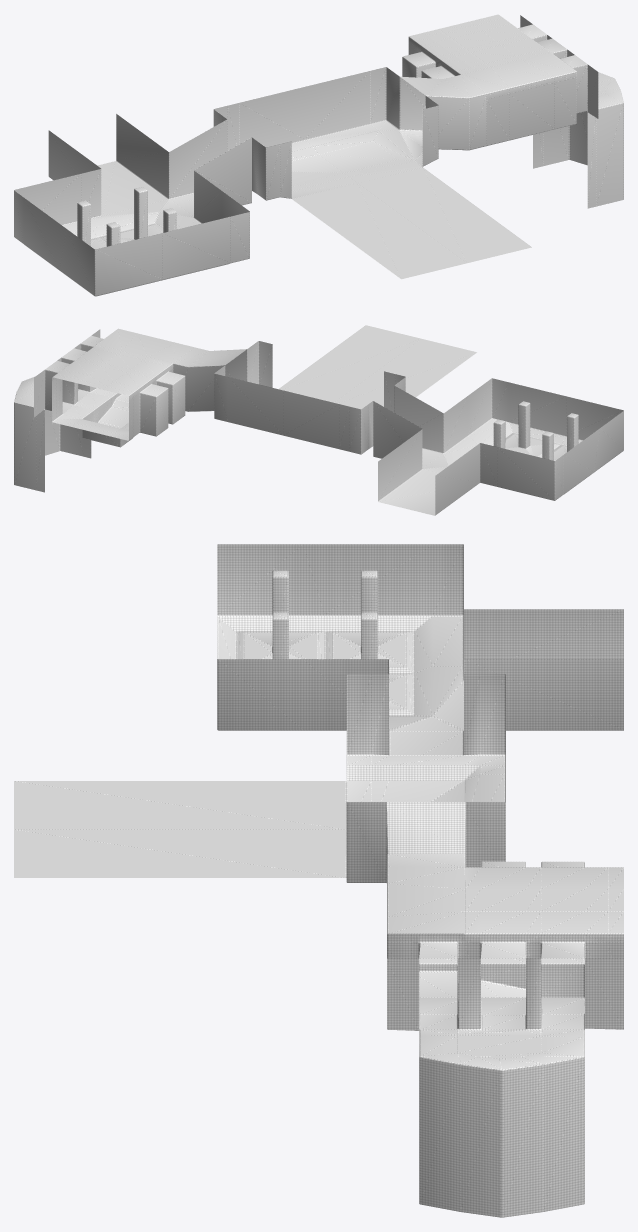
File: Poolroom1.fbx
3 views of the same model, one above another, from view 1: azimuth 30°, elevation 25°; view 2: azimuth 150°, elevation 25°; view 3: azimuth 270°, elevation 25° (orthographic). The views are drawn at different scales.
Visible parts, largest first — view 1: Plane; view 2: Plane; view 3: Plane.
Boxes of the visible parts, left/top/right/bottom form: Plane: left=14, top=14, right=623, bottom=296; Plane: left=14, top=325, right=623, bottom=515; Plane: left=14, top=544, right=623, bottom=1217.
Size of the model in its own units: 13601 by 3449 by 7714.
